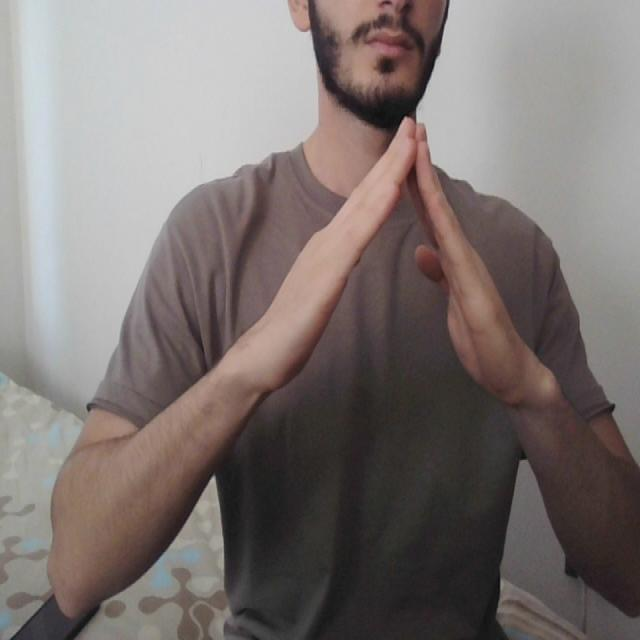Ev: (254, 110, 538, 400)
